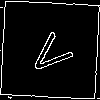V: (25, 25, 82, 81)
